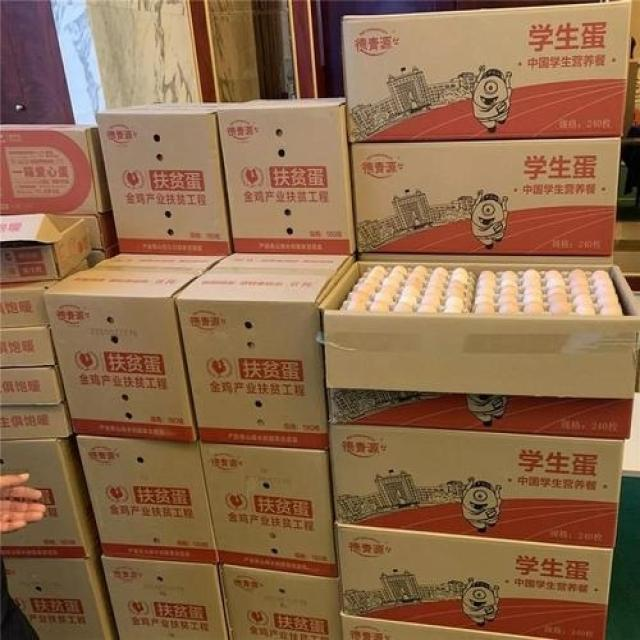box: (319, 259, 640, 400), (346, 1, 634, 143), (180, 251, 356, 451), (332, 425, 625, 545), (42, 251, 225, 441), (349, 136, 620, 261), (335, 523, 613, 639), (95, 99, 250, 256), (216, 97, 356, 259), (201, 441, 339, 577), (77, 434, 219, 562), (328, 387, 632, 440), (0, 434, 101, 560), (101, 557, 232, 639), (0, 553, 120, 640), (0, 123, 111, 215), (218, 565, 342, 640), (0, 215, 91, 282), (342, 613, 544, 640), (1, 281, 59, 330), (0, 368, 64, 407), (84, 208, 116, 249)
